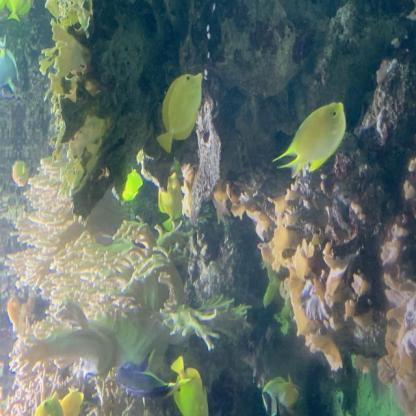fish: (272, 102, 346, 178), (156, 72, 203, 154), (111, 358, 181, 402), (166, 353, 214, 416), (258, 372, 302, 415), (154, 168, 184, 228), (0, 33, 24, 102), (31, 391, 68, 416), (59, 383, 87, 416), (122, 166, 143, 203), (6, 292, 24, 332), (10, 159, 30, 188), (8, 0, 30, 25)
